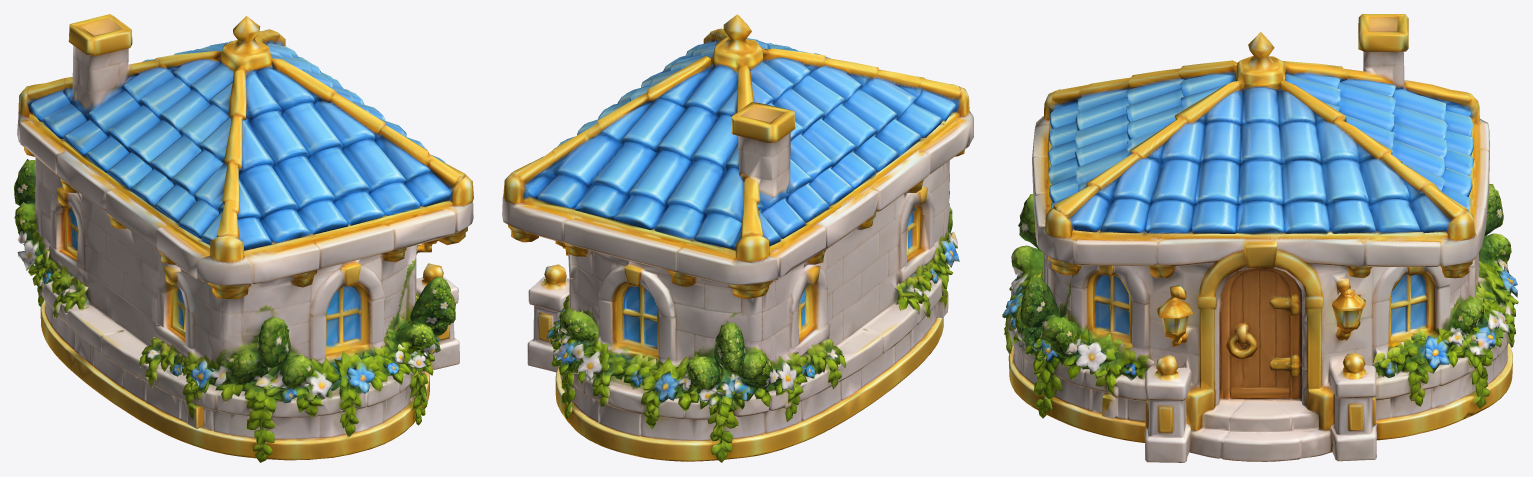
Rendered from HaloDomeHouse_11_HD_src.glb.
The picture shows the model from 3 angles, left to right: view 1: azimuth 30°, elevation 25°; view 2: azimuth 150°, elevation 25°; view 3: azimuth 270°, elevation 25°; orthographic projection.
Parts seen in each view (by area): view 1: tripo_node_2deb5928-6e3c-46a3-bf7d-c0f2f0b5c5bf; view 2: tripo_node_2deb5928-6e3c-46a3-bf7d-c0f2f0b5c5bf; view 3: tripo_node_2deb5928-6e3c-46a3-bf7d-c0f2f0b5c5bf.
Part boxes in pixels (x1,y1,x2,y2): tripo_node_2deb5928-6e3c-46a3-bf7d-c0f2f0b5c5bf: [14, 14, 473, 462]; tripo_node_2deb5928-6e3c-46a3-bf7d-c0f2f0b5c5bf: [502, 14, 973, 462]; tripo_node_2deb5928-6e3c-46a3-bf7d-c0f2f0b5c5bf: [1002, 14, 1518, 462].
Bounding box in the file's own units: 0.6866 × 0.743 × 0.981.
1 material, 1 textured.
